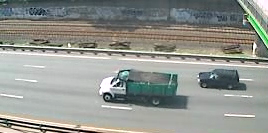car: (96, 68, 184, 107), (195, 67, 242, 91)
